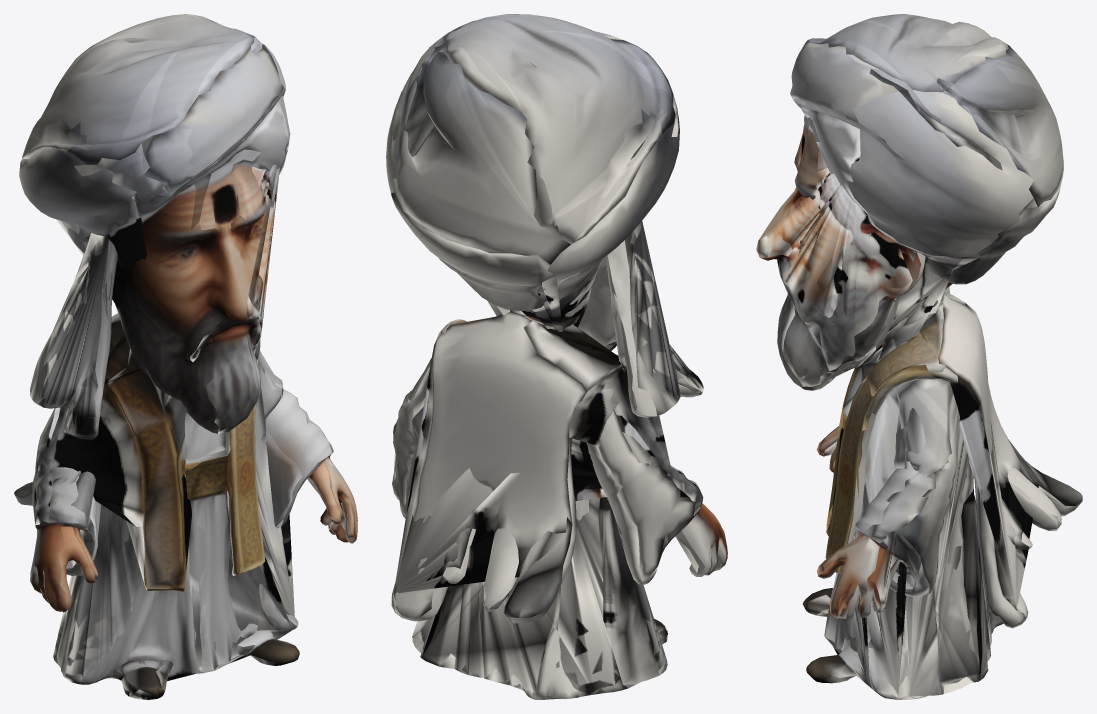
Rendered from ibn_ezra_for_mixamo.fbx.
3 views of the same model, side by side, from view 1: azimuth 30°, elevation 25°; view 2: azimuth 150°, elevation 25°; view 3: azimuth 270°, elevation 25° (orthographic). The views are drawn at different scales.
Visible parts, largest first — view 1: ibn_ezra; view 2: ibn_ezra; view 3: ibn_ezra.
Part boxes in pixels (x1,y1,x2,y2): ibn_ezra: (14, 14, 357, 699); ibn_ezra: (386, 14, 727, 699); ibn_ezra: (756, 14, 1082, 699).
Bounding box in the file's own units: 5427 × 10000 × 4834.
1 material, 1 textured.
